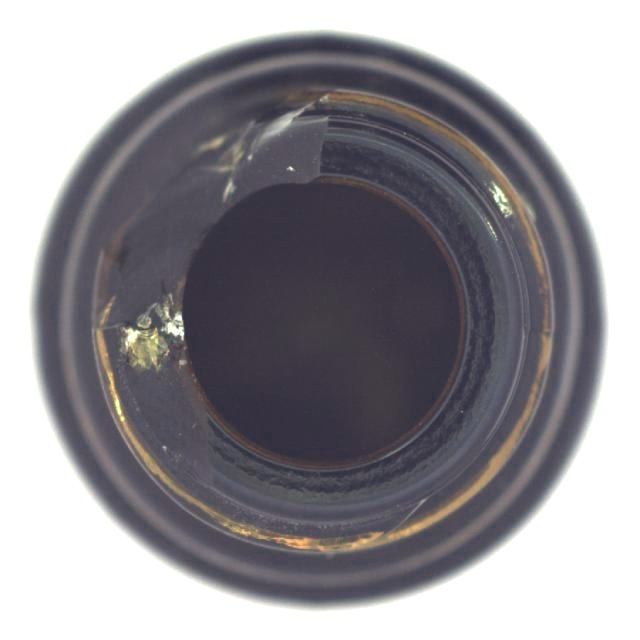bad-broken_large: (28, 31, 609, 613)
